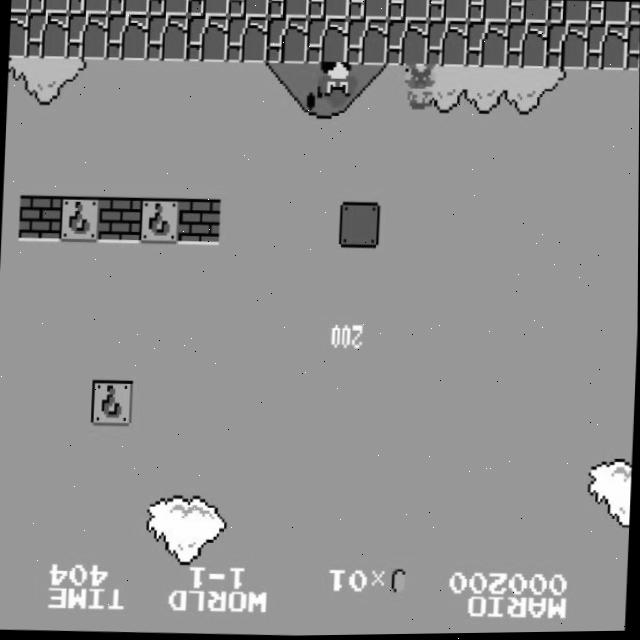1- brick_block: (178, 198, 221, 246), (98, 196, 141, 244), (18, 194, 61, 242)
11- little_mario: (398, 63, 444, 114)
13- mystery_block: (138, 197, 181, 245), (58, 195, 101, 243), (91, 380, 134, 426)
17- undestructible_block: (425, 21, 468, 69), (385, 20, 428, 68), (225, 16, 268, 64), (185, 15, 228, 63), (145, 14, 188, 62), (105, 13, 148, 61), (65, 12, 108, 60), (585, 25, 628, 72), (545, 24, 588, 71), (505, 23, 548, 70), (465, 22, 508, 69), (345, 19, 388, 66), (305, 18, 348, 65), (265, 17, 308, 64), (26, 12, 69, 59), (587, 2, 629, 27), (547, 1, 589, 26), (507, 0, 549, 25), (467, 0, 509, 24), (427, 0, 469, 23), (9, 12, 29, 59), (387, 0, 429, 22), (347, 0, 389, 21), (307, 0, 349, 19), (267, 0, 309, 19), (227, 0, 269, 18), (187, 0, 229, 17), (147, 0, 189, 16), (626, 26, 640, 73), (107, 0, 149, 15), (67, 0, 109, 14), (27, 0, 69, 14), (628, 3, 640, 27), (10, 0, 29, 13)
3- empty_block: (338, 202, 381, 250)
8- goomba: (316, 61, 361, 112)
